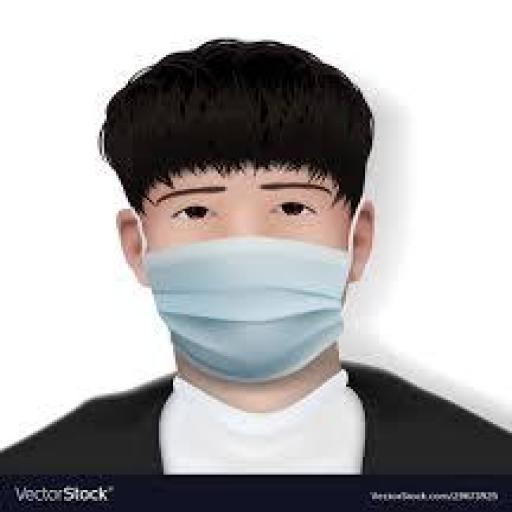mask: (70, 82, 380, 396)
